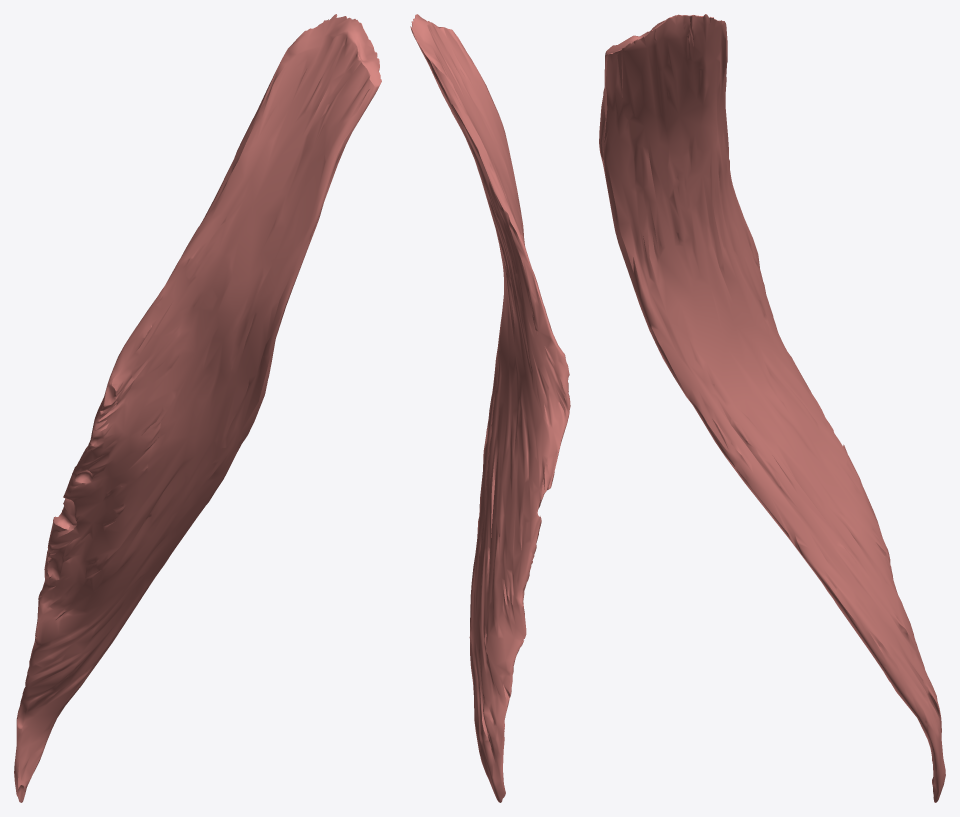
The model's file is fma22729_fj1545m.glb.
The picture shows the model from 3 angles, left to right: view 1: azimuth 30°, elevation 25°; view 2: azimuth 150°, elevation 25°; view 3: azimuth 270°, elevation 25°; orthographic projection. The views are drawn at different scales.
Parts seen in each view (by area): view 1: FMA22729_FJ1545M; view 2: FMA22729_FJ1545M; view 3: FMA22729_FJ1545M.
Part boxes in pixels (x1,y1,x2,y2): FMA22729_FJ1545M: (14,14,381,802); FMA22729_FJ1545M: (410,14,570,802); FMA22729_FJ1545M: (599,14,945,802).
Size of the model in its own units: 0.0634 by 0.2137 by 0.0741.
